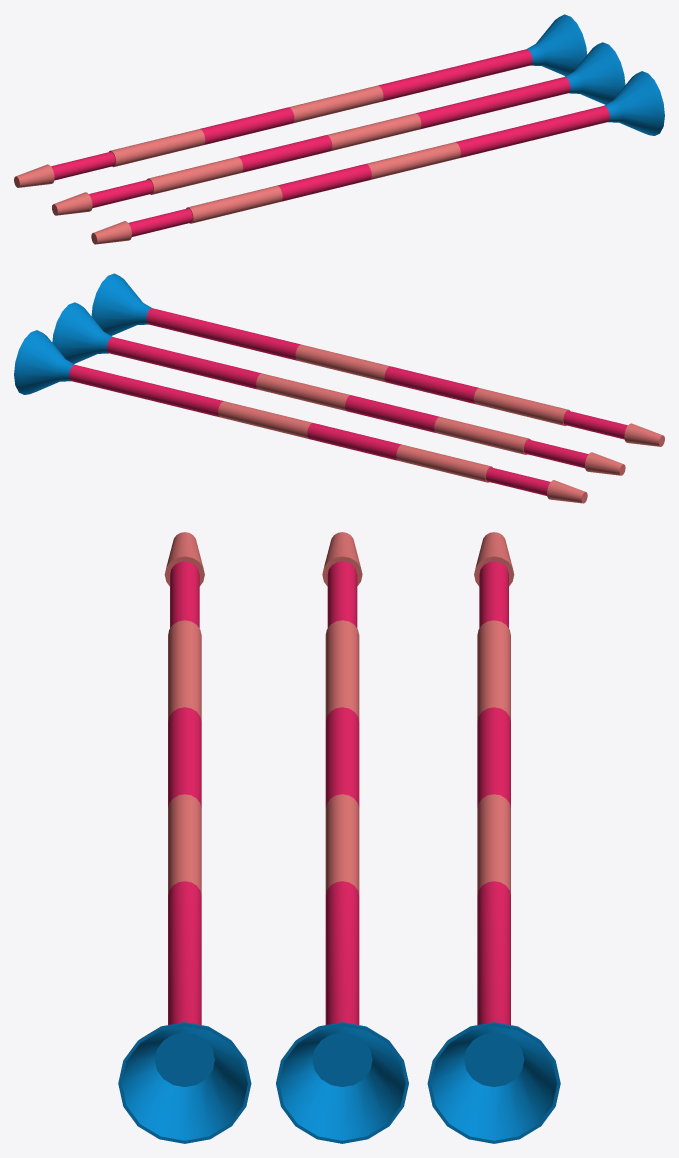
File: Arrows_2.fbx
3 views of the same model, one above another, from view 1: azimuth 30°, elevation 25°; view 2: azimuth 150°, elevation 25°; view 3: azimuth 270°, elevation 25° (orthographic). The views are drawn at different scales.
Visible parts, largest first — view 1: Arrows_2; view 2: Arrows_2; view 3: Arrows_2.
Boxes of the visible parts, box(x1,y1,x2,y2) form: Arrows_2: box(14, 14, 664, 244); Arrows_2: box(14, 273, 664, 503); Arrows_2: box(118, 532, 560, 1143).
Size of the model in its own units: 42.64 by 4.44 by 14.75.
1 material, 1 textured.
